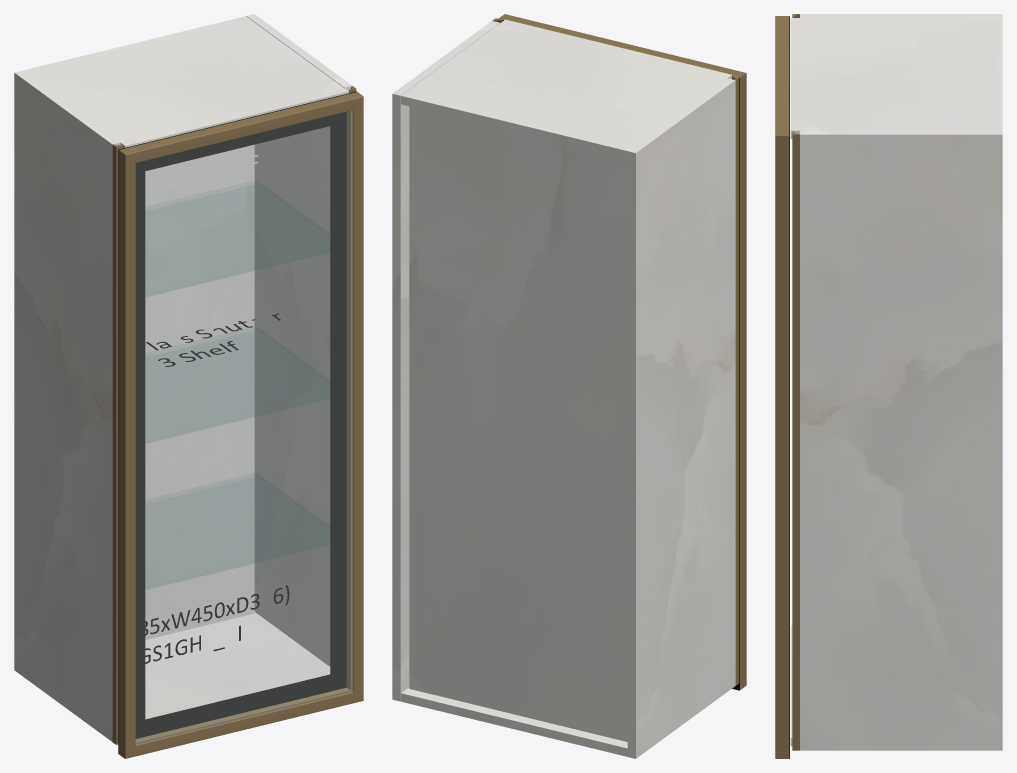
Rendered from WC-SH-NHX-GL-3SG-RHS-XXX-450-1085-336-15.glb.
3 renders of one model, left to right at view 1: azimuth 30°, elevation 25°; view 2: azimuth 150°, elevation 25°; view 3: azimuth 270°, elevation 25°, orthographic. The views are drawn at different scales.
Parts seen in each view (by area): view 1: Object_node_10, TP_node_0, TP_node_2, TP_node_1, Neon 22 Profile ALU PROF NEON 20 L21XH22.5MM 3MTR S2/405 SEC (×4), TP, Object_node_12, TP_node, Object_node_14, 2D text_node, 2D text, 2D text_node_1; view 2: TP_node_2, TP_node_0, TP, TP_node_1, Neon 22 Profile ALU PROF NEON 20 L21XH22.5MM 3MTR S2/405 SEC (×2), TP_node, Object_node_14, Object_node_12; view 3: TP_node_1, TP, Neon 22 Profile ALU PROF NEON 20 L21XH22.5MM 3MTR S2/405 SEC (×2), Object_node_20, TP_node_0, Object_node_12.
Boxes of the visible parts, x1,y1,x2,y2 form: Object_node_10: (136, 110, 352, 744); TP_node_0: (14, 70, 120, 741); TP_node_2: (145, 144, 254, 639); TP_node_1: (246, 14, 352, 666); Neon 22 Profile ALU PROF NEON 20 L21XH22.5MM 3MTR S2/405 SEC (×4): (119, 92, 363, 758); TP: (23, 16, 348, 148); Object_node_12: (118, 91, 356, 753); TP_node: (145, 612, 330, 719); Object_node_14: (112, 144, 122, 744); 2D text_node: (145, 585, 289, 635); 2D text: (146, 313, 280, 366); 2D text_node_1: (145, 155, 258, 196); TP_node_2: (409, 106, 627, 741); TP_node_0: (627, 78, 735, 758); TP: (401, 19, 731, 159); TP_node_1: (392, 21, 499, 701); Neon 22 Profile ALU PROF NEON 20 L21XH22.5MM 3MTR S2/405 SEC (×2): (499, 14, 746, 689); TP_node: (401, 687, 627, 756); Object_node_14: (732, 76, 739, 685); Object_node_12: (502, 20, 739, 690); TP_node_1: (800, 130, 1002, 750); TP: (790, 18, 1002, 138); Neon 22 Profile ALU PROF NEON 20 L21XH22.5MM 3MTR S2/405 SEC (×2): (775, 16, 789, 758); Object_node_20: (792, 131, 799, 750); TP_node_0: (800, 14, 1002, 17); Object_node_12: (789, 16, 789, 758).
Size of what is drawn, in the model's own units: 0.45 by 1.09 by 0.358.
Materials: 7 (1 with a texture image).
